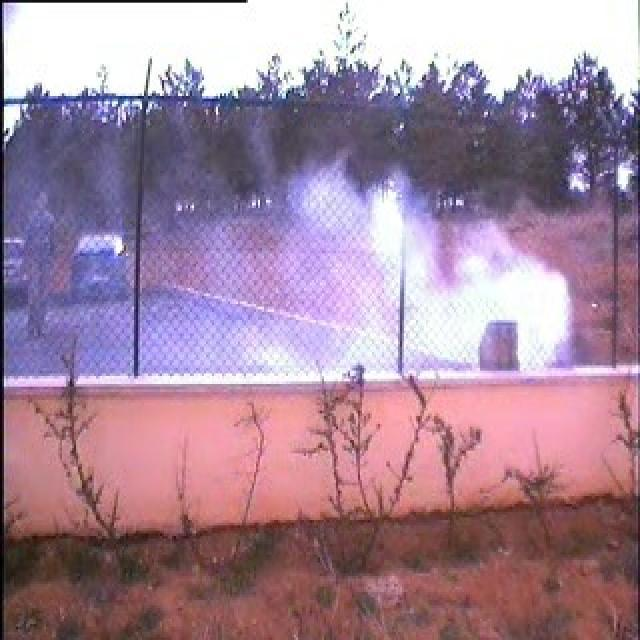Smoke: (245, 166, 571, 373)
